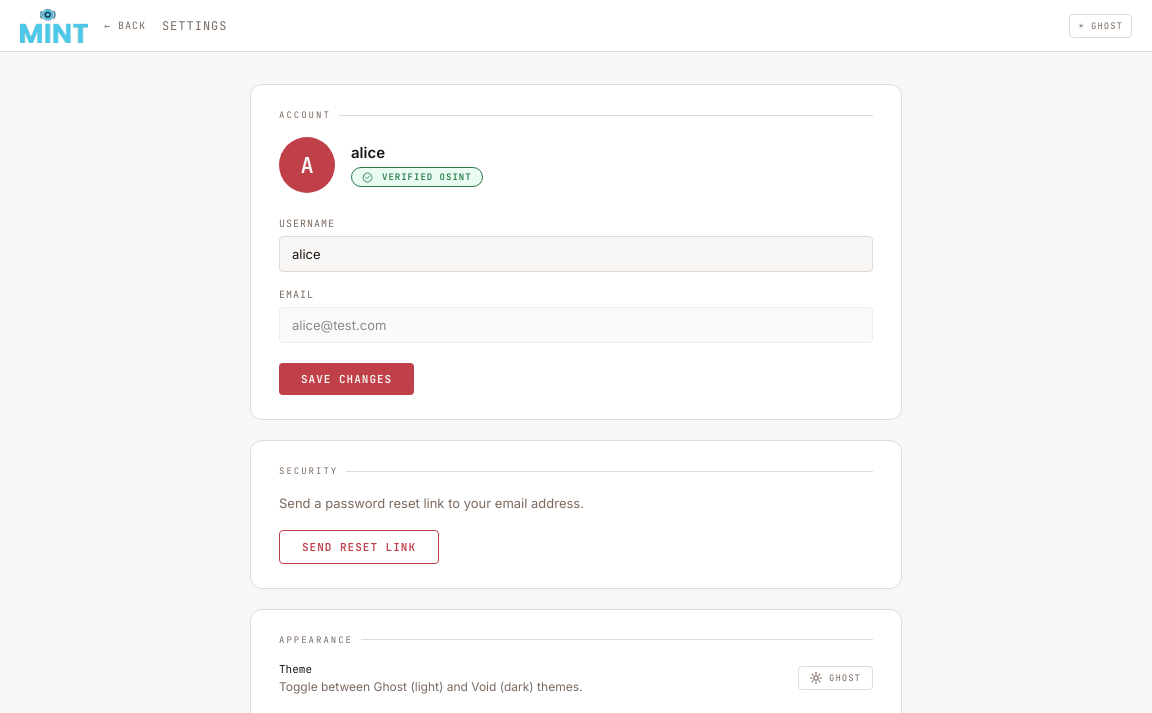
Test: SettingsPage › shows error message when reset link fails
Click the button "SEND RESET LINK" at (359,547), box left=279, top=530, right=439, bottom=564
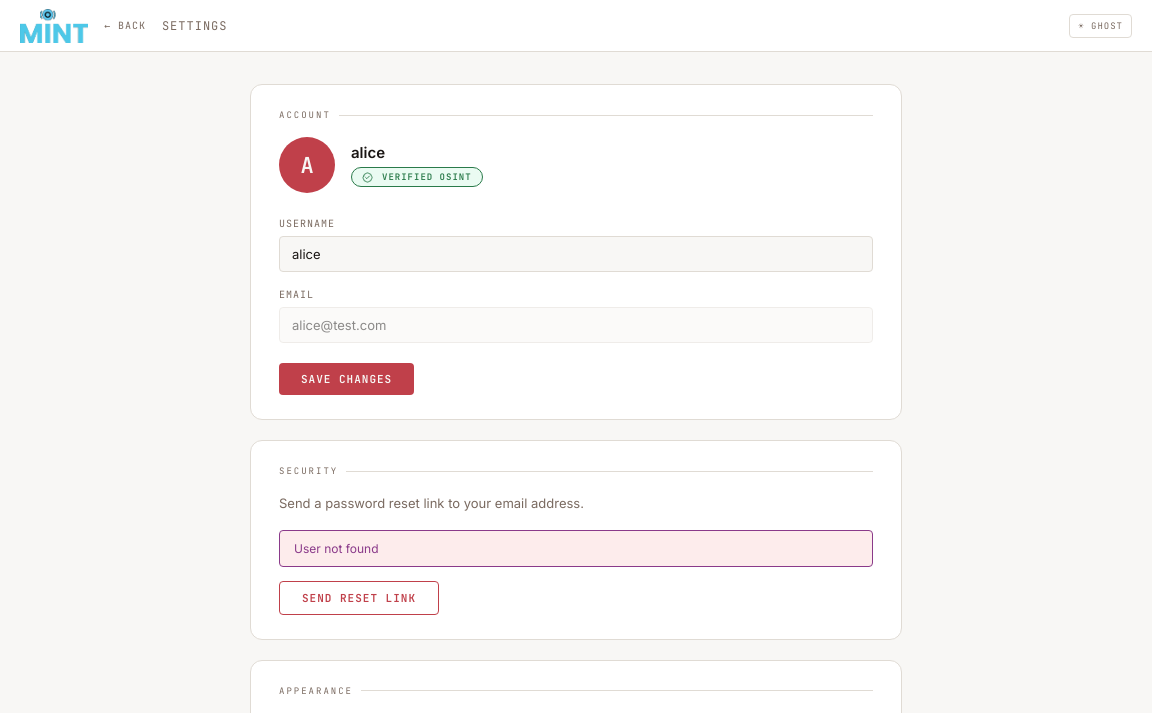
Now the text "User not found" is shown, box left=279, top=530, right=873, bottom=567
